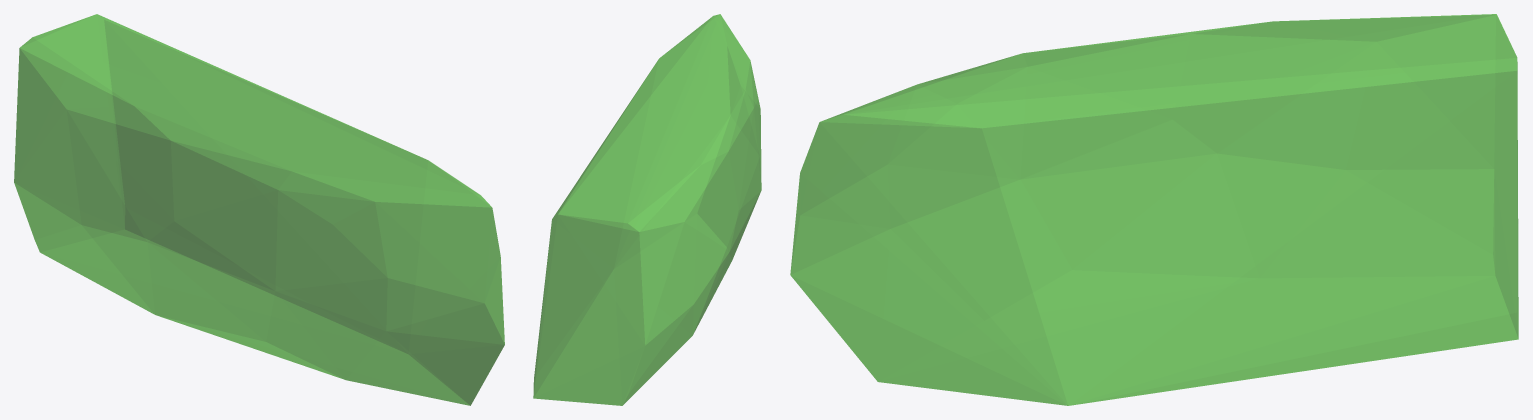
3 renders of one model, left to right at view 1: azimuth 30°, elevation 25°; view 2: azimuth 150°, elevation 25°; view 3: azimuth 270°, elevation 25°, orthographic. The views are drawn at different scales.
Parts seen in each view (by area): view 1: Shape_IndexedFaceSet.014_Shape_IndexedFaceSet.7500; view 2: Shape_IndexedFaceSet.014_Shape_IndexedFaceSet.7500; view 3: Shape_IndexedFaceSet.014_Shape_IndexedFaceSet.7500.
Part boxes in pixels (left/top/right/bottom): Shape_IndexedFaceSet.014_Shape_IndexedFaceSet.7500: left=14, top=14, right=504, bottom=405; Shape_IndexedFaceSet.014_Shape_IndexedFaceSet.7500: left=533, top=14, right=761, bottom=405; Shape_IndexedFaceSet.014_Shape_IndexedFaceSet.7500: left=790, top=14, right=1518, bottom=405.
Size of the model in its own units: 0.2249 by 0.2329 by 0.5524.
